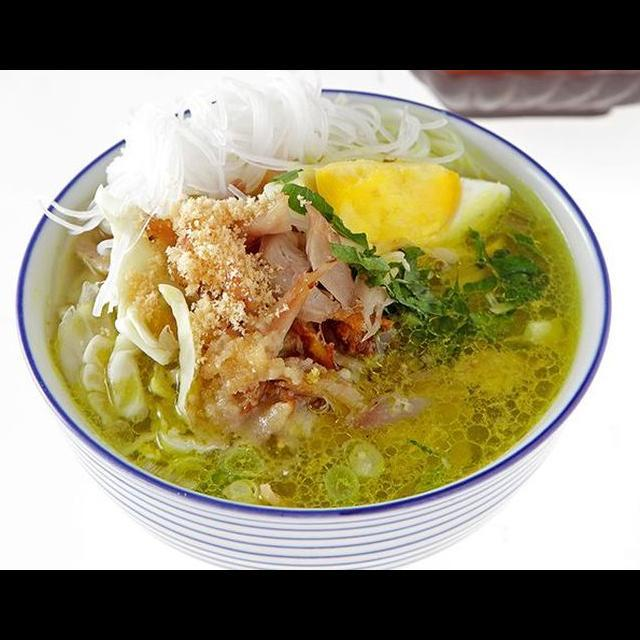Soto: (40, 83, 581, 510)
